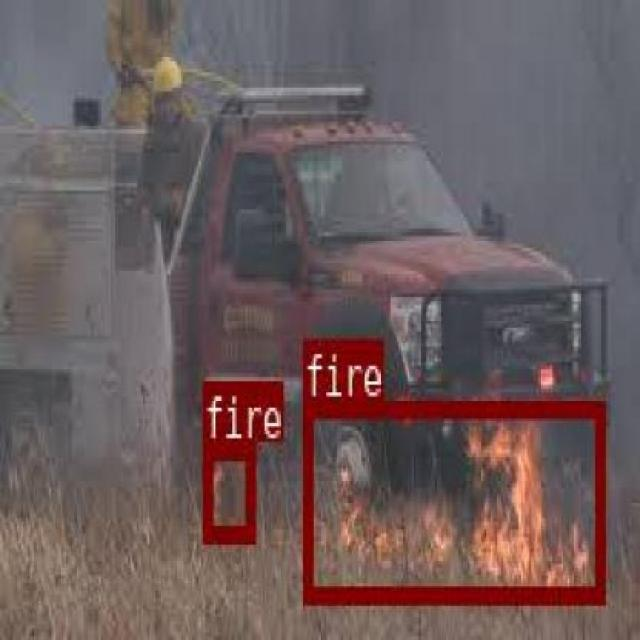Fire: (300, 398, 602, 598), (201, 442, 254, 538)
